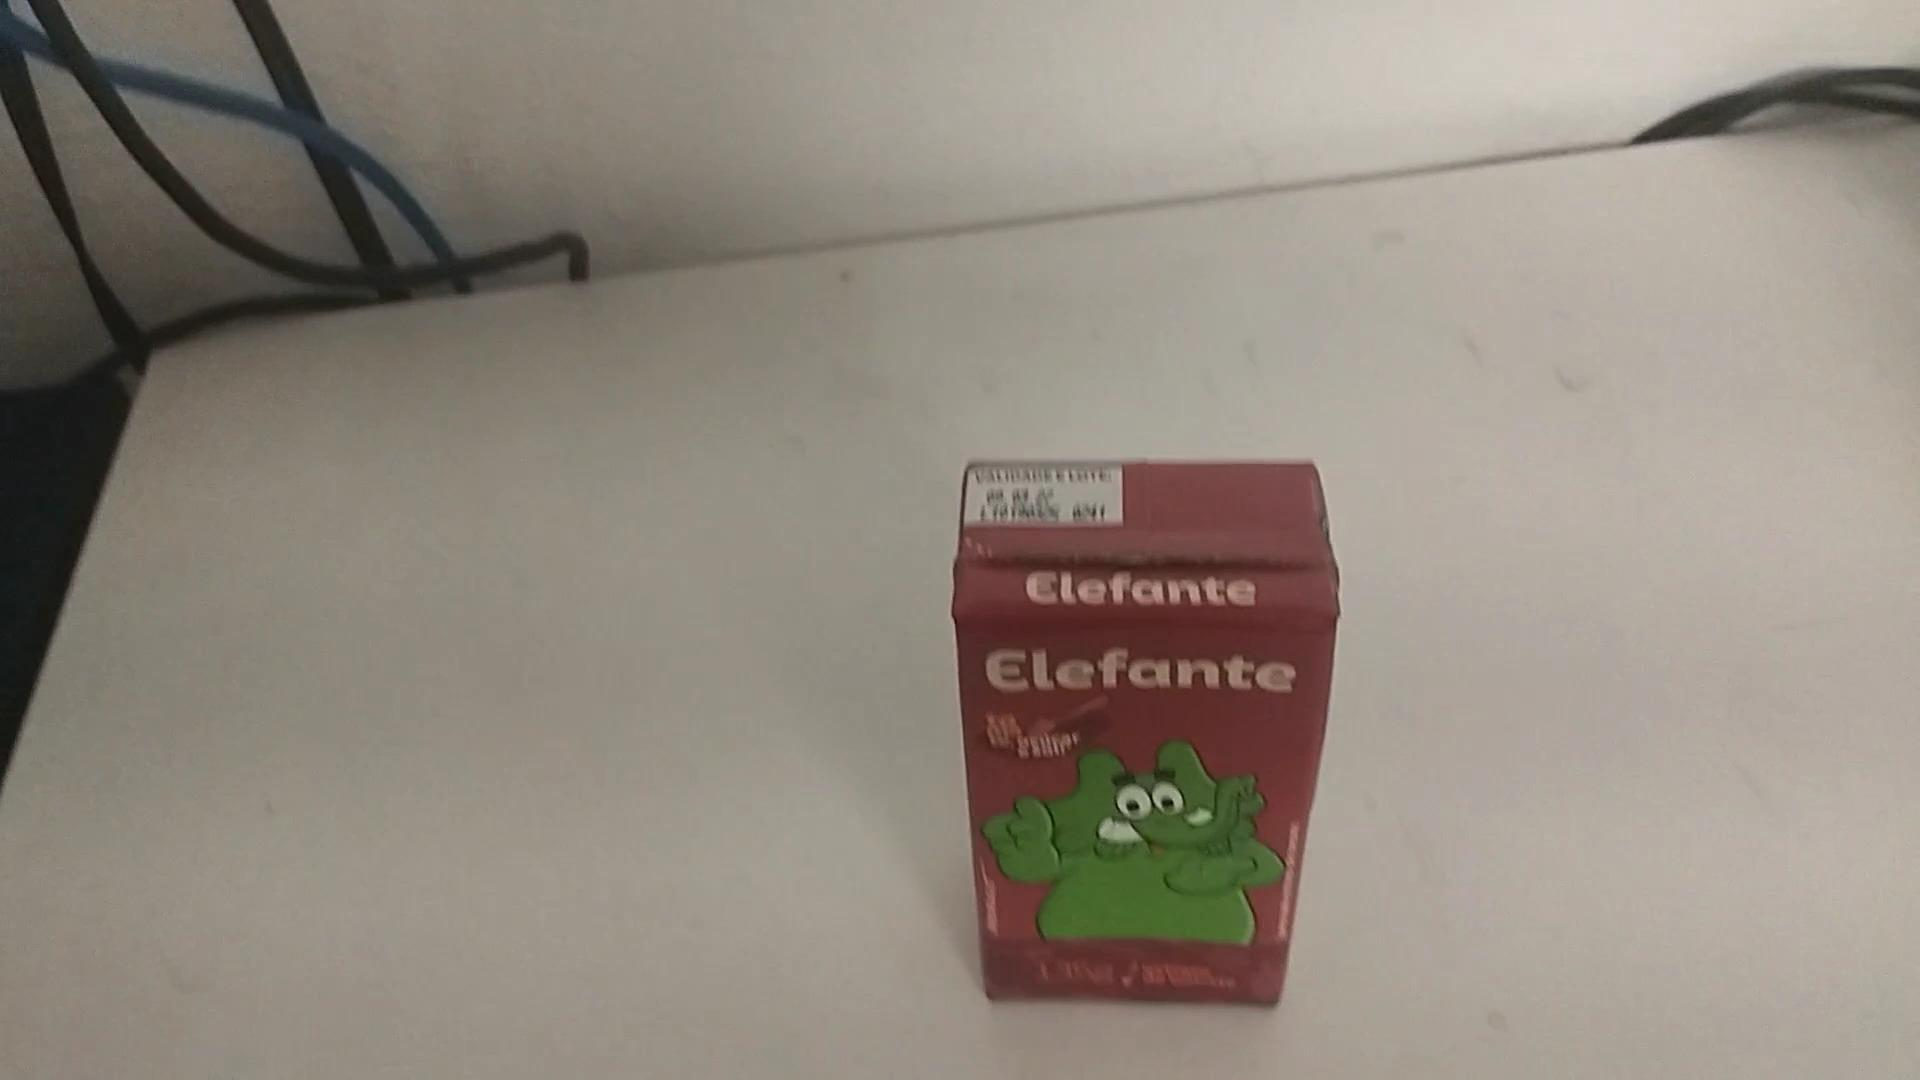tomate: (945, 455, 1348, 1021)
